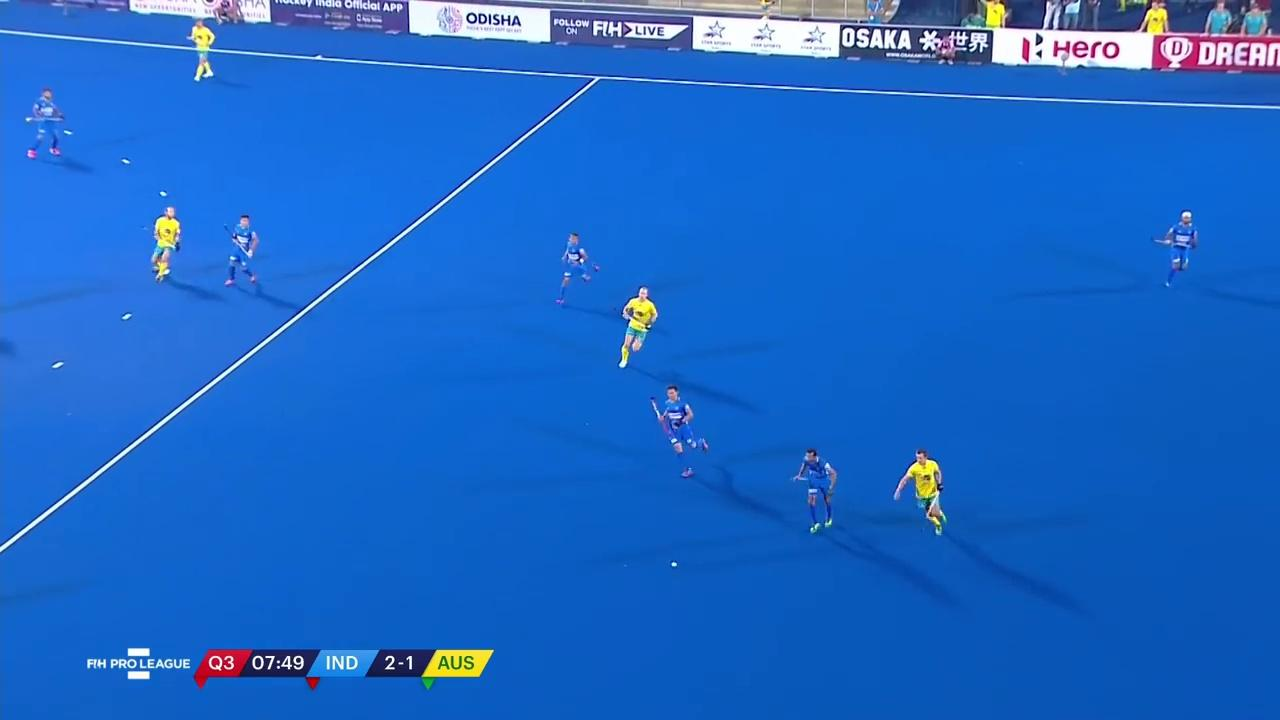ball: (665, 559, 684, 570)
